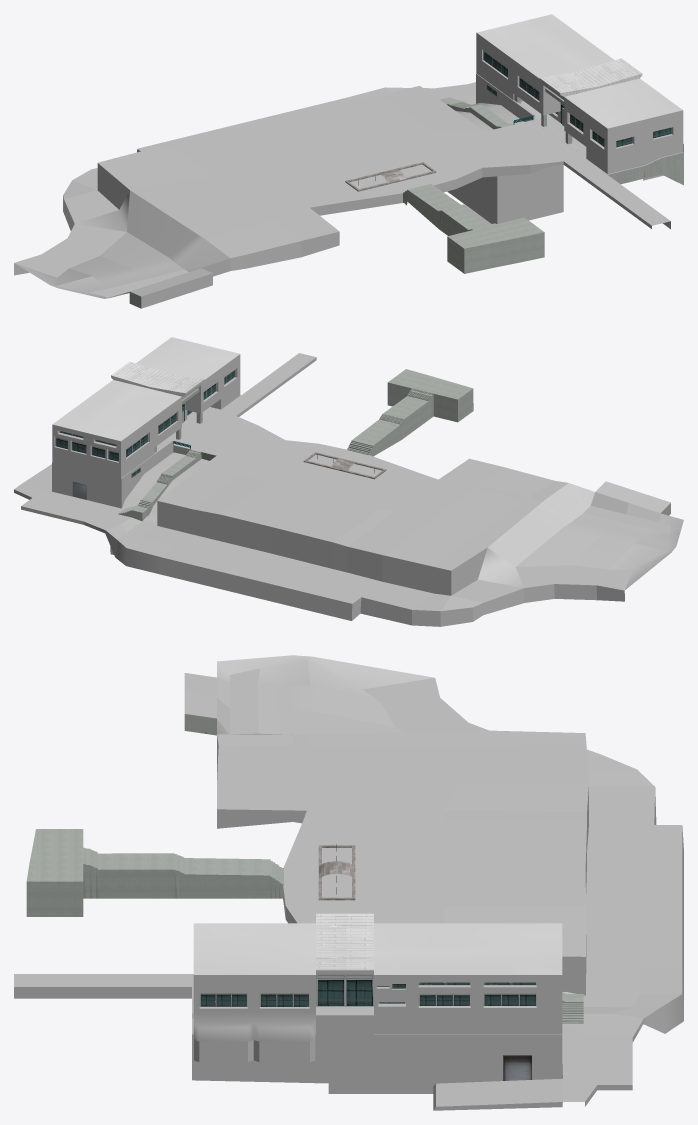
Rendered from recto_corre.fbx.
3 renders of one model, top to bottom at view 1: azimuth 30°, elevation 25°; view 2: azimuth 150°, elevation 25°; view 3: azimuth 270°, elevation 25°, orthographic. The views are drawn at different scales.
Parts seen in each view (by area): view 1: pCube43, Rectoria, polySurface2365, polySurface2592; view 2: pCube43, Rectoria, polySurface2365; view 3: pCube43, Rectoria, polySurface2365.
Boxes of the visible parts, bbox=[...] form: pCube43: bbox=[14, 73, 683, 308]; Rectoria: bbox=[476, 14, 683, 180]; polySurface2365: bbox=[447, 102, 563, 223]; polySurface2592: bbox=[345, 162, 436, 191]; pCube43: bbox=[14, 353, 683, 626]; Rectoria: bbox=[52, 337, 240, 483]; polySurface2365: bbox=[110, 452, 209, 554]; pCube43: bbox=[14, 655, 683, 1110]; Rectoria: bbox=[193, 913, 562, 1063]; polySurface2365: bbox=[328, 991, 584, 1093].
Size of the model in its own units: 20.72 by 3.94 by 13.69.
